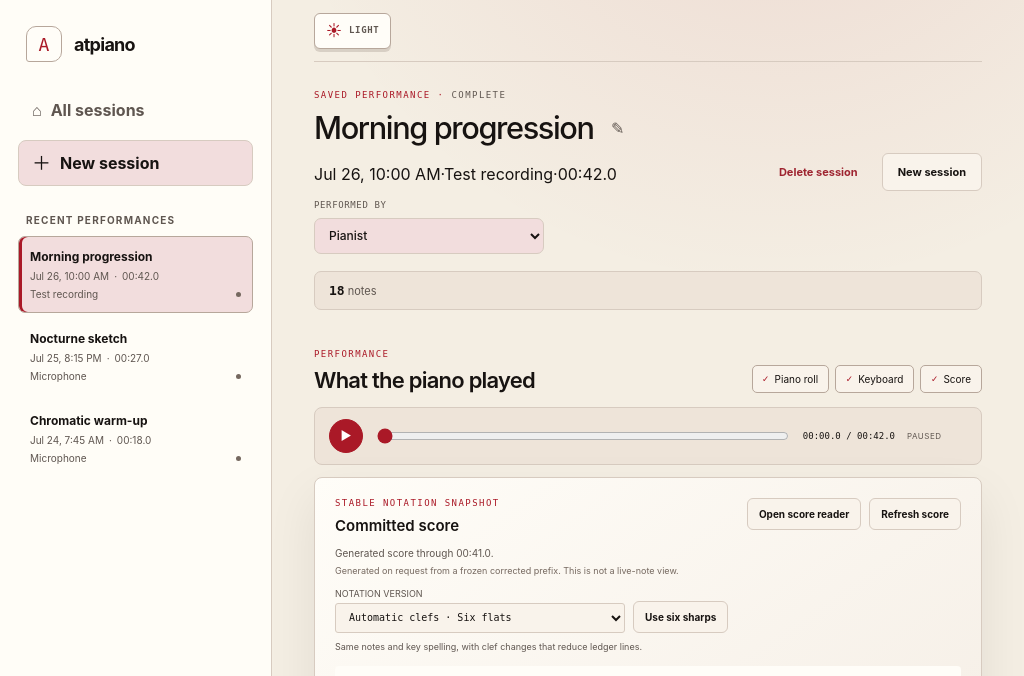
Test case: shared application › returns to Sessions from the atpiano brand
Expected: the heading "Morning progression" is shown, [314,111,594,145]
Click the button with aria-label "Atpiano Sessions home" at (80, 44), box [26,26,135,62]
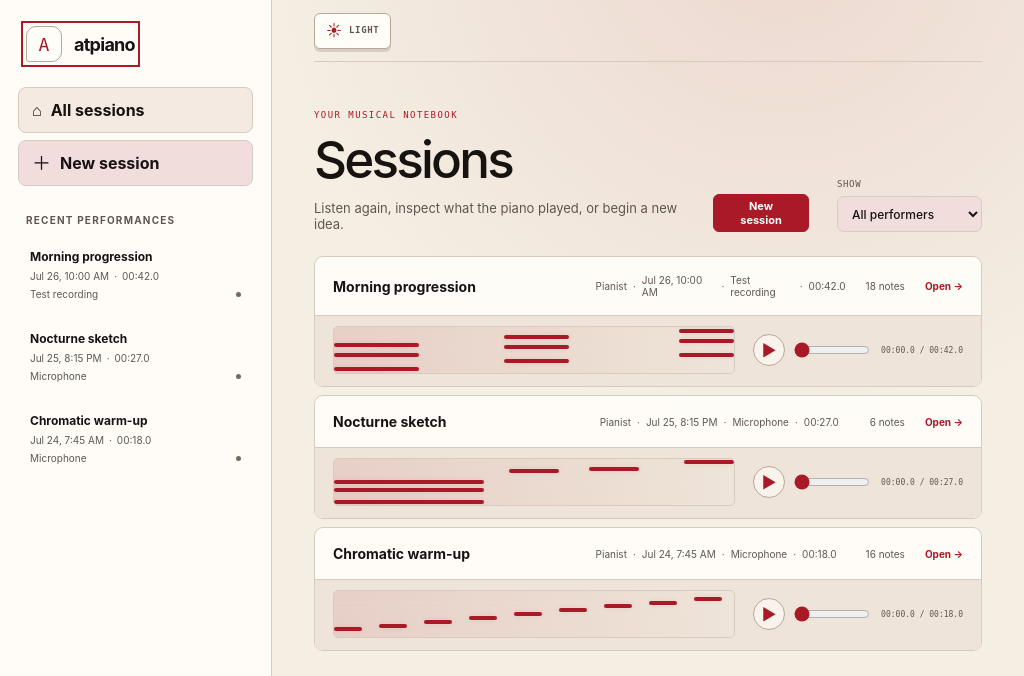
Expected: the heading "Sessions" is shown, [314,128,512,190]
